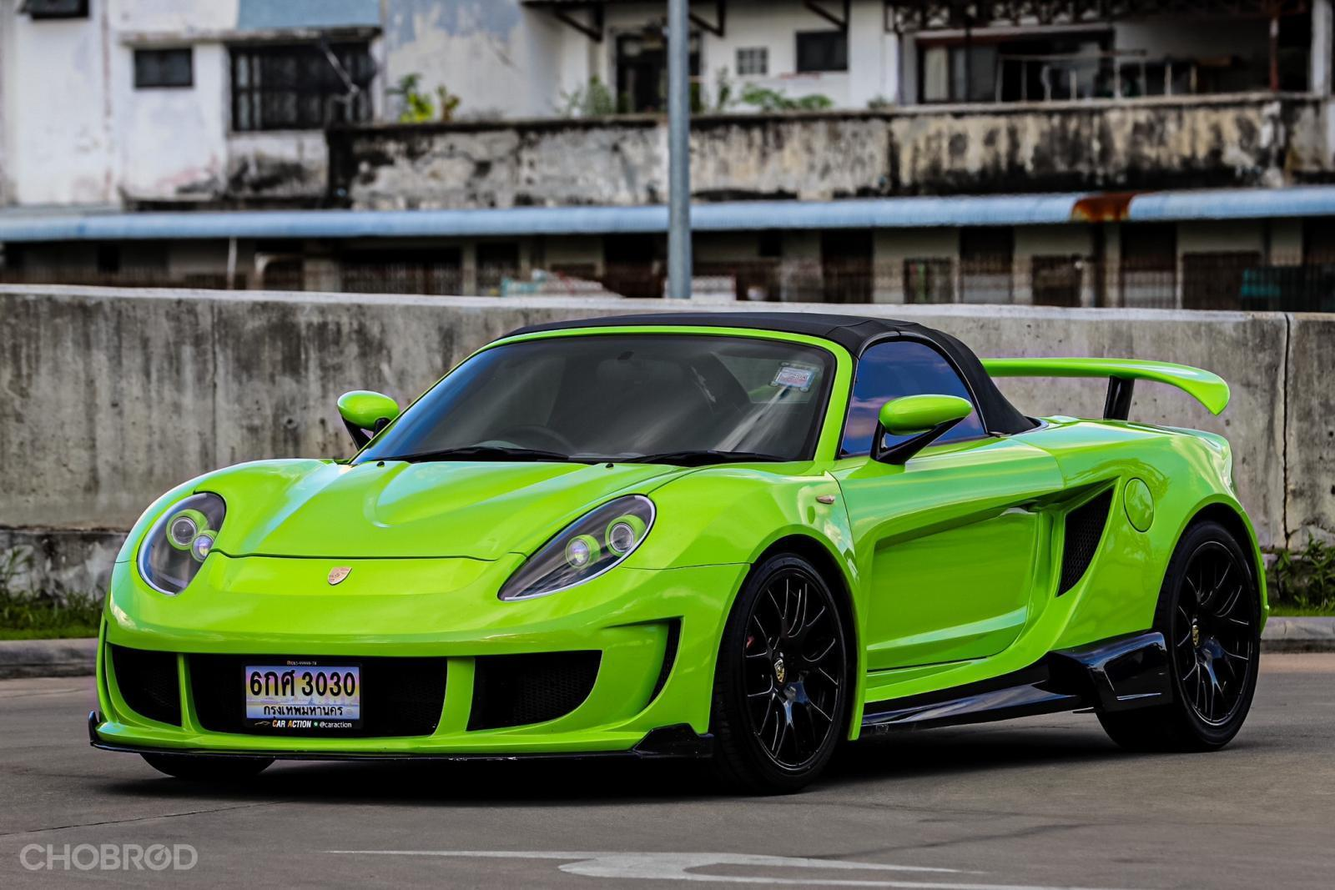license-plate: (233, 654, 367, 730)
